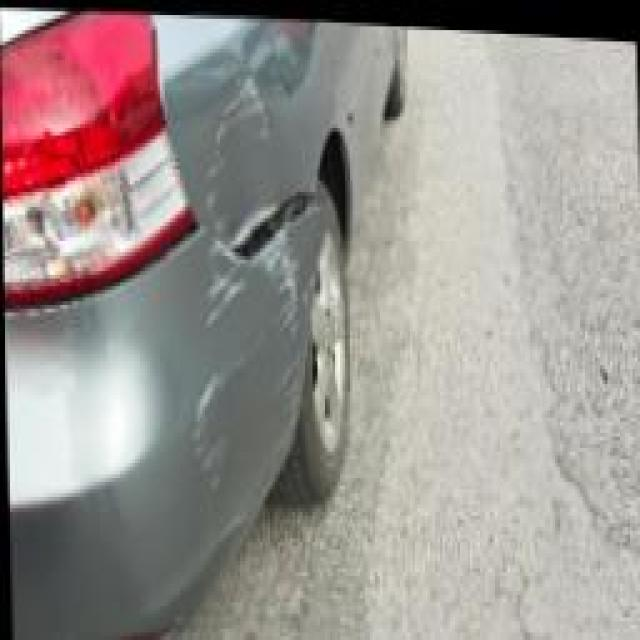Bumper: (190, 222, 319, 534)
Fender: (168, 23, 332, 231)
